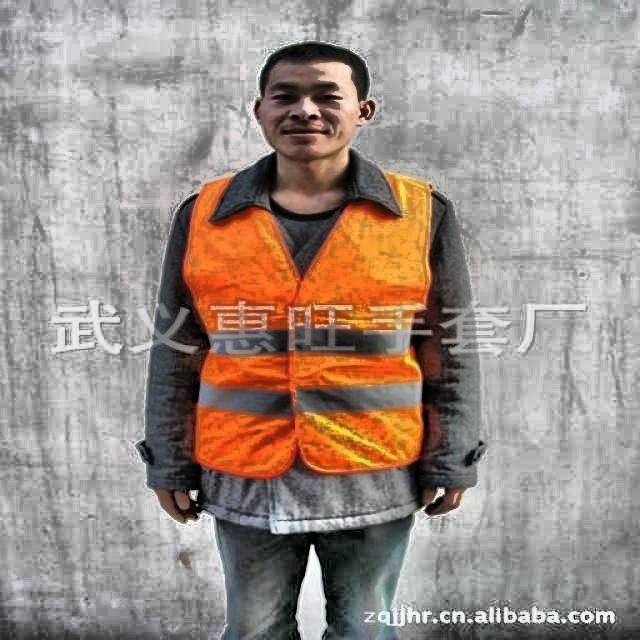safety_jacket: (173, 164, 443, 485)
